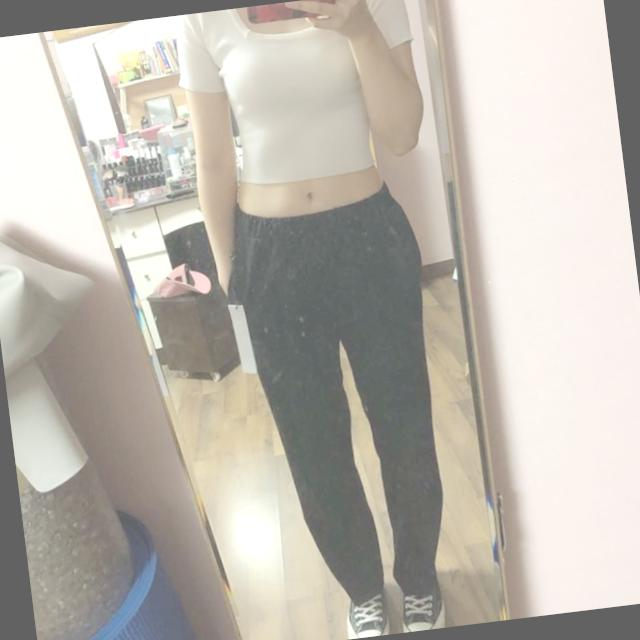shortsleeve: (171, 0, 428, 193)
slacks: (226, 181, 464, 631)
